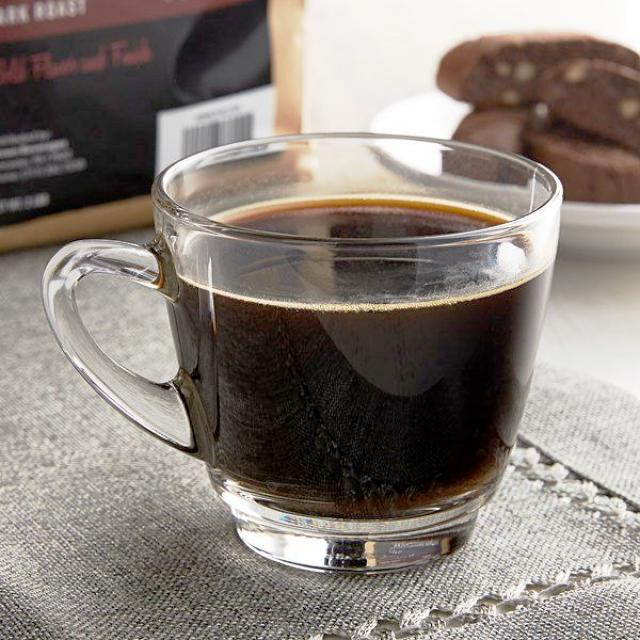drink: (45, 132, 564, 568)
